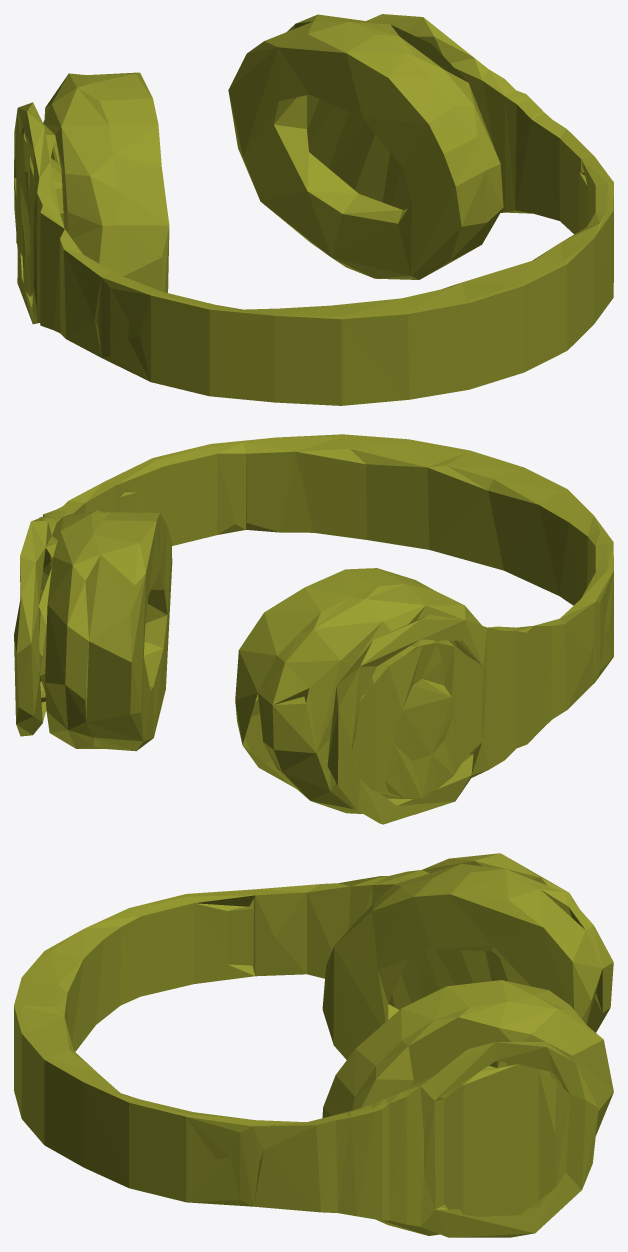
File: model_align.obj
3 views of the same model, one above another, from view 1: azimuth 30°, elevation 25°; view 2: azimuth 150°, elevation 25°; view 3: azimuth 270°, elevation 25° (orthographic).
Bounding box in the file's own units: 0.1421 × 0.0608 × 0.1495.
